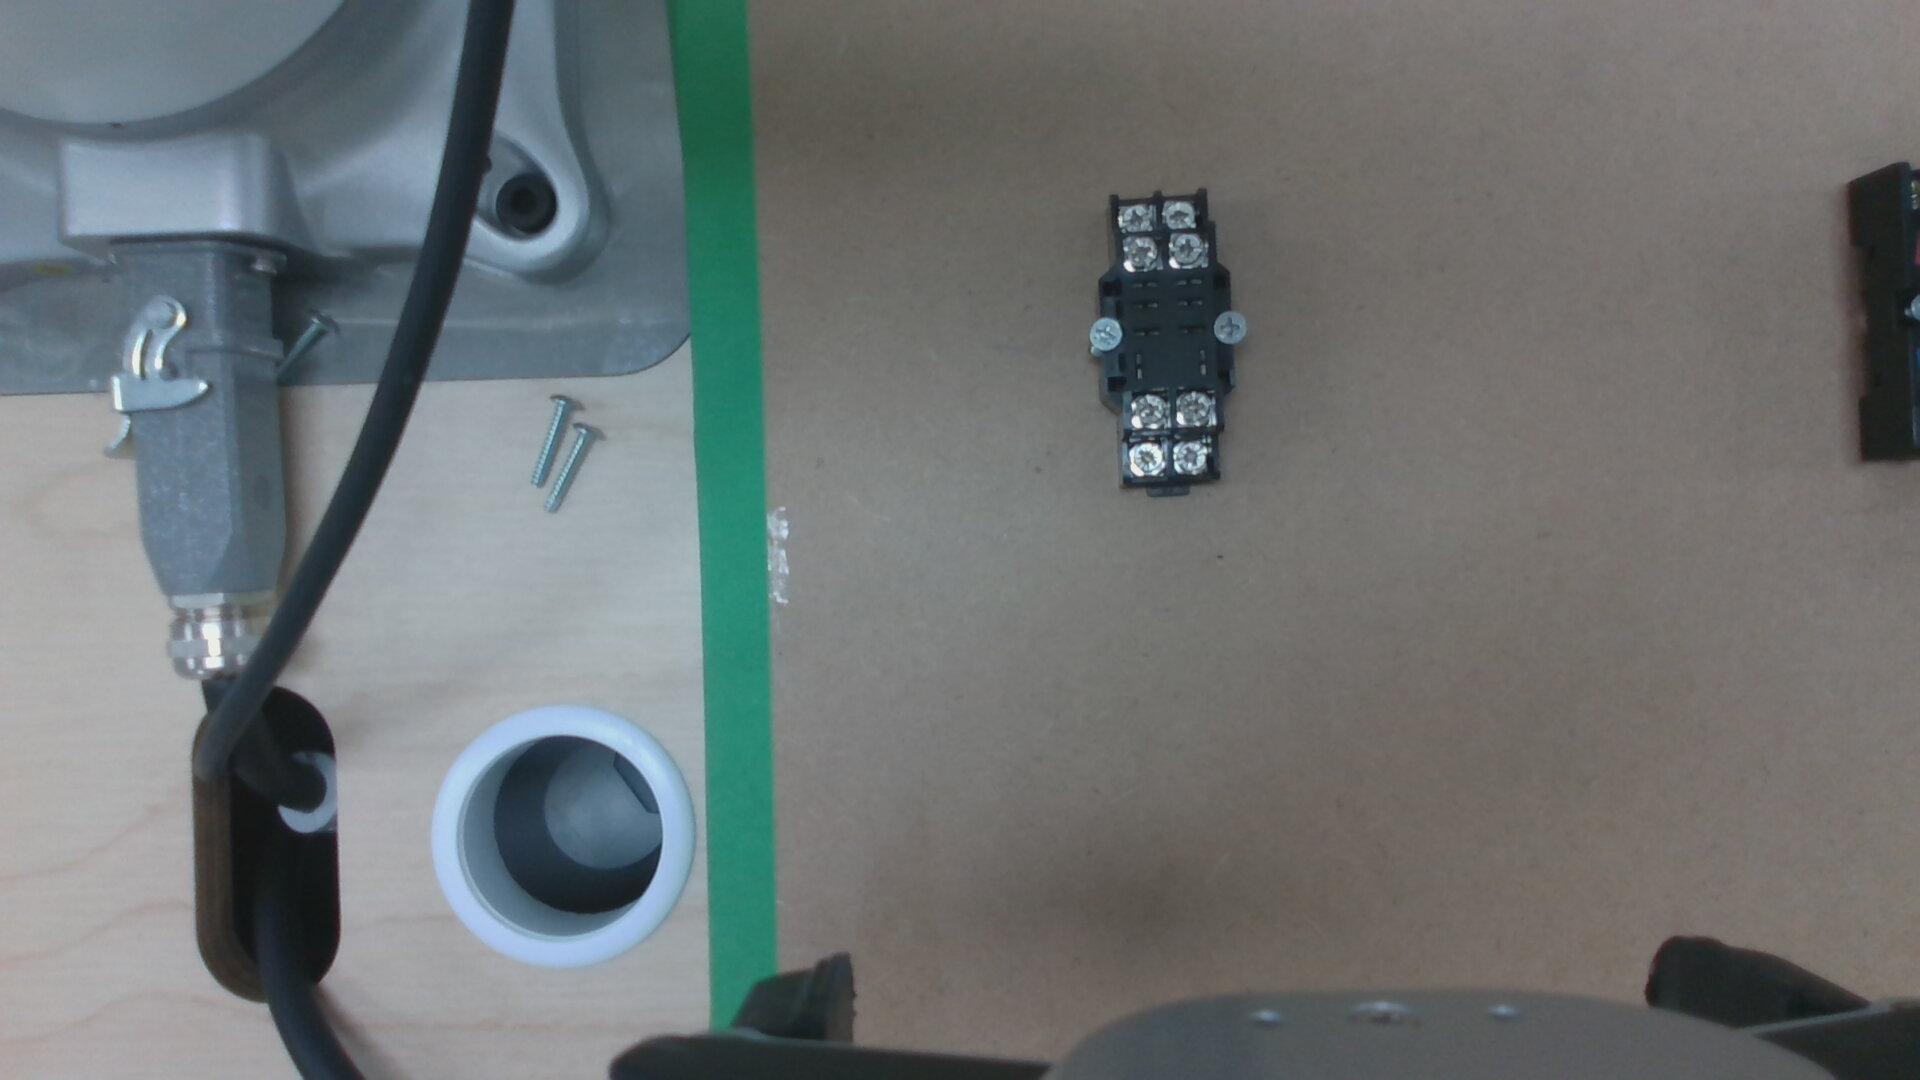relay 3: (1162, 200, 1197, 227)
relay 4: (1120, 206, 1154, 229)
relay 5: (1174, 440, 1208, 472)
relay 6: (1126, 442, 1166, 473)
relay 7: (1176, 392, 1213, 425)
relay 8: (1131, 393, 1167, 429)
